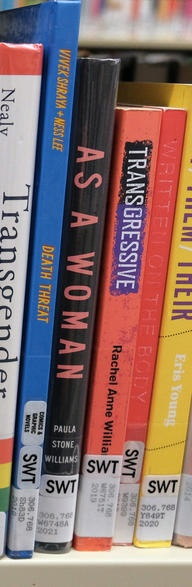call_number: (76, 476, 119, 537), (9, 488, 40, 549), (38, 495, 75, 542), (139, 497, 174, 540), (116, 483, 137, 544)
